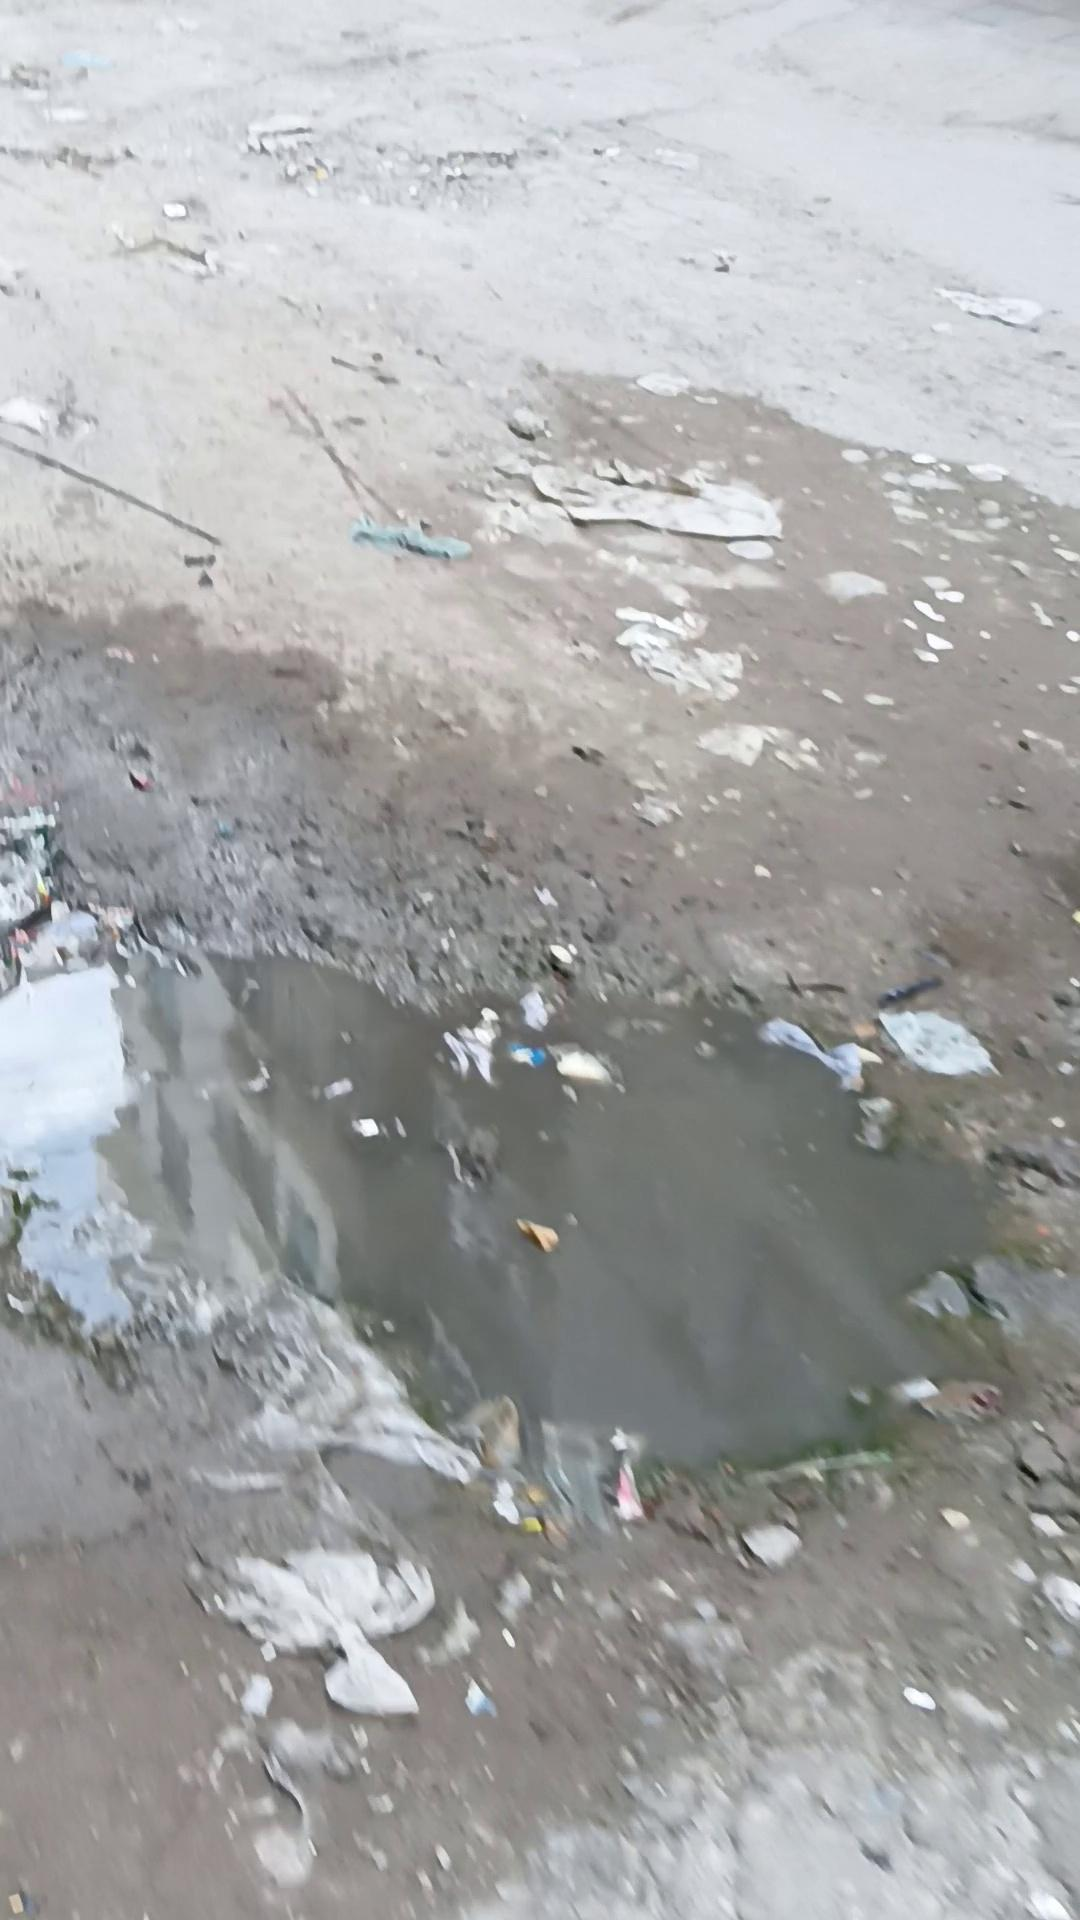Broken-road: (3, 3, 1077, 1916)
Railroad-crossing: (0, 756, 1043, 1659)
